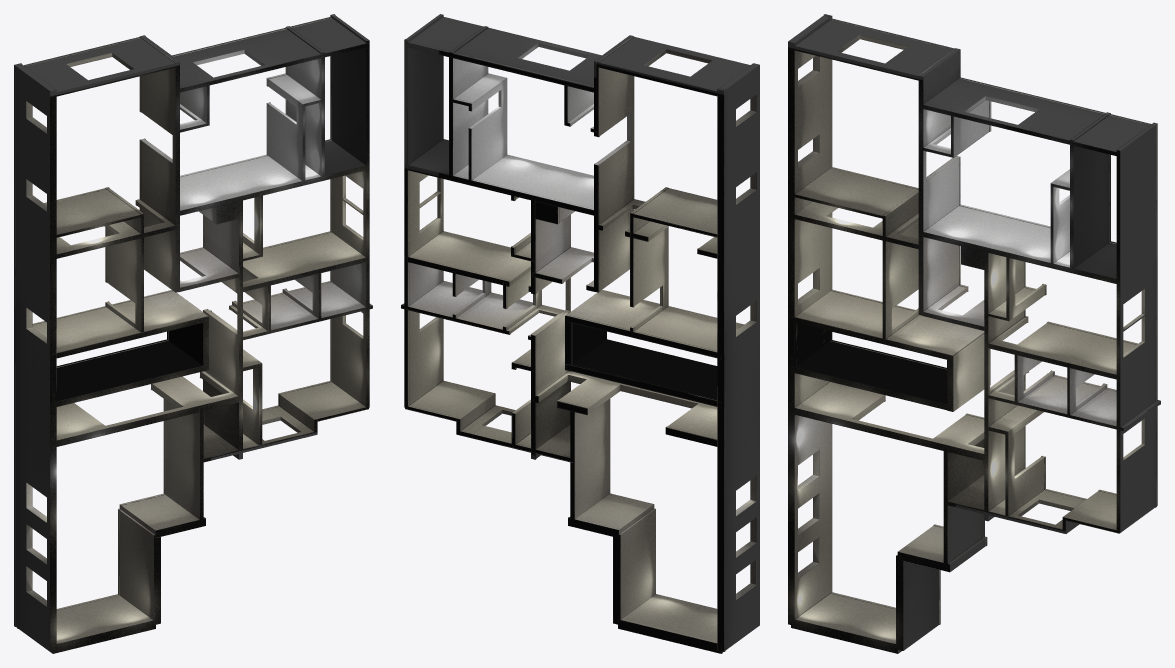
The model's file is wall_vm.obj.
3 views of the same model, side by side, from view 1: azimuth 30°, elevation 25°; view 2: azimuth 150°, elevation 25°; view 3: azimuth 330°, elevation 25° (orthographic). The views are drawn at different scales.
Bounding box in the file's own units: 12.53 × 20.89 × 2.4.
Materials: 1 (1 with a texture image).
